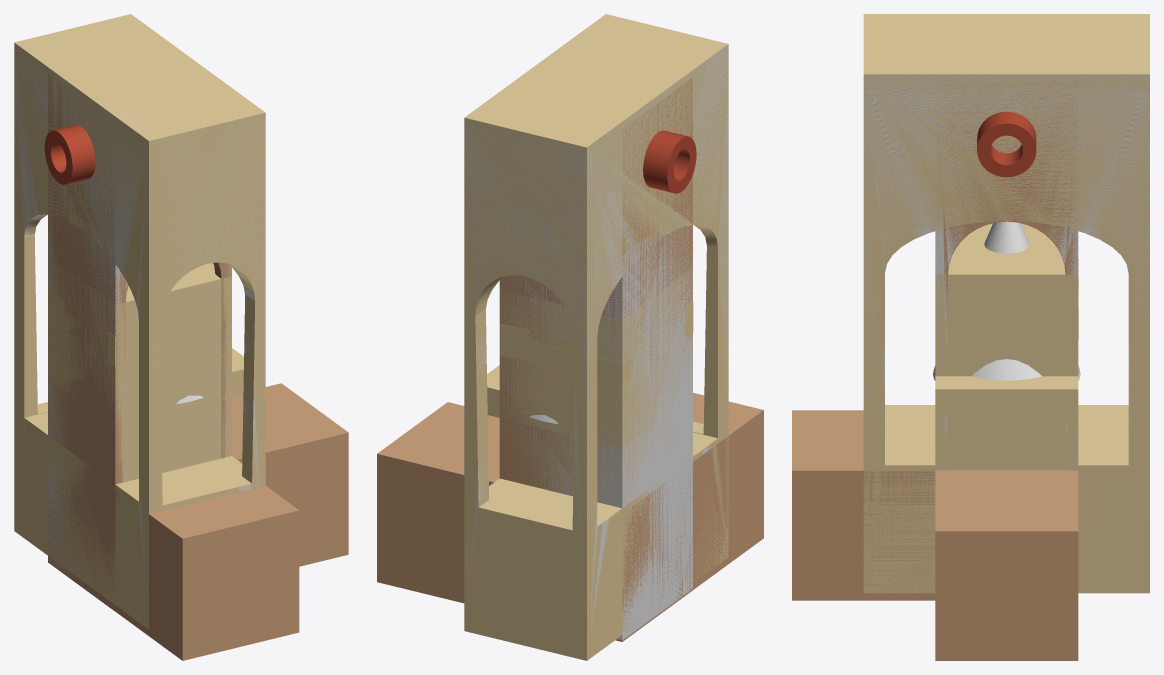
The model's file is kwart blokje.fbx.
3 renders of one model, left to right at view 1: azimuth 30°, elevation 25°; view 2: azimuth 150°, elevation 25°; view 3: azimuth 270°, elevation 25°, orthographic. The views are drawn at different scales.
Visible parts, largest first — view 1: brug_1, Cube_1_2, Cube_5, zij_rand_af, zij_rand, sand, Cube_1, Cube, Cube_2, Cube_1_3, rand; view 2: brug_1, Cube_1_2, Cube_2, Cube_5, zij_rand_af, Cube_1_3, zij_rand, hoek, Cube_1; view 3: brug_1, Cube_1_2, Cube_5, zij_rand, zij_rand_af, Cube_1_3, Cube_2, Cone, Cube, sand.
Part boxes in pixels (x1=…): brug_1: x1=14, y1=14, x2=265, y2=629; Cube_1_2: x1=44, y1=74, x2=348, y2=660; Cube_5: x1=14, y1=45, x2=265, y2=579; zij_rand_af: x1=48, y1=256, x2=243, y2=424; zij_rand: x1=48, y1=258, x2=243, y2=422; sand: x1=48, y1=269, x2=231, y2=420; Cube_1: x1=48, y1=318, x2=227, y2=482; Cube: x1=116, y1=338, x2=231, y2=456; Cube_2: x1=48, y1=196, x2=231, y2=583; Cube_1_3: x1=48, y1=318, x2=77, y2=448; rand: x1=48, y1=288, x2=128, y2=364; brug_1: x1=464, y1=14, x2=728, y2=660; Cube_1_2: x1=377, y1=77, x2=763, y2=641; Cube_2: x1=502, y1=205, x2=692, y2=640; Cube_5: x1=464, y1=44, x2=728, y2=631; zij_rand_af: x1=487, y1=270, x2=692, y2=447; Cube_1_3: x1=499, y1=356, x2=692, y2=507; zij_rand: x1=499, y1=271, x2=692, y2=447; hoek: x1=499, y1=302, x2=693, y2=384; Cube_1: x1=623, y1=334, x2=692, y2=458; brug_1: x1=863, y1=14, x2=1149, y2=593; Cube_1_2: x1=792, y1=81, x2=1078, y2=660; Cube_5: x1=863, y1=74, x2=1149, y2=495; zij_rand: x1=935, y1=224, x2=1078, y2=416; zij_rand_af: x1=935, y1=223, x2=1078, y2=416; Cube_1_3: x1=935, y1=417, x2=1078, y2=469; Cube_2: x1=935, y1=209, x2=1078, y2=470; Cone: x1=933, y1=221, x2=1080, y2=380; Cube: x1=935, y1=417, x2=993, y2=469; sand: x1=935, y1=275, x2=1078, y2=372.
Bounding box in the file's own units: 220 × 406 × 250.
